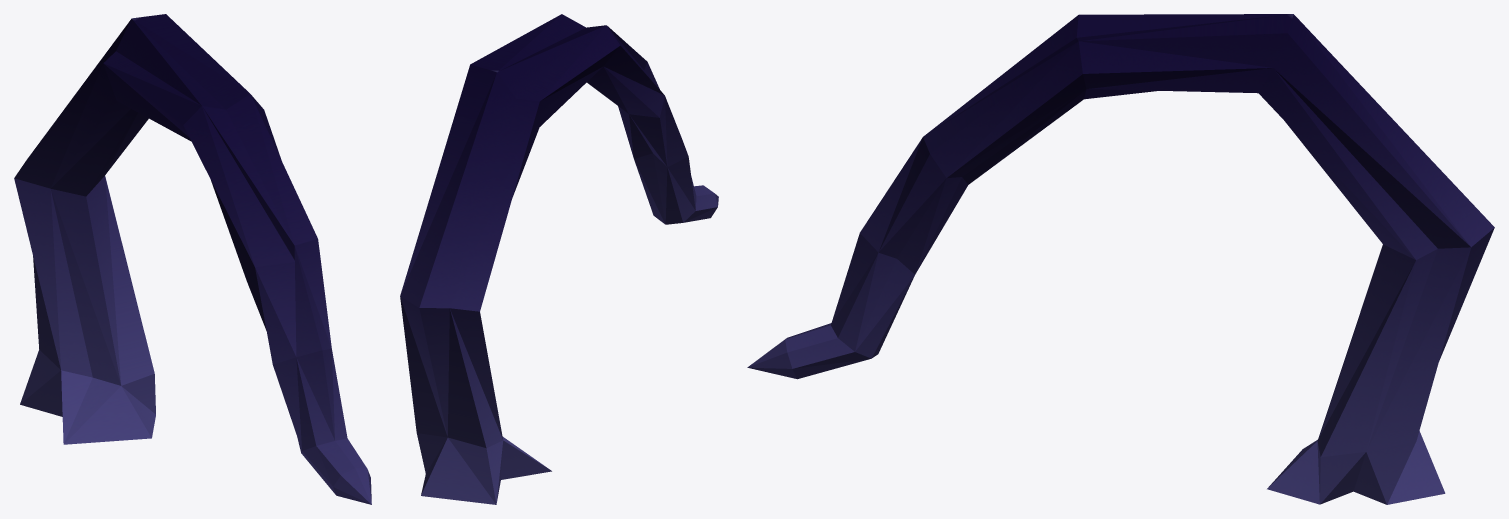
File: MOD_Waypoint (7).fbx
3 views of the same model, side by side, from view 1: azimuth 30°, elevation 25°; view 2: azimuth 150°, elevation 25°; view 3: azimuth 270°, elevation 25° (orthographic). The views are drawn at different scales.
Parts seen in each view (by area): view 1: MOD_Waypoint7; view 2: MOD_Waypoint7; view 3: MOD_Waypoint7.
Boxes of the visible parts, bbox=[...] form: MOD_Waypoint7: bbox=[14, 14, 371, 504]; MOD_Waypoint7: bbox=[400, 14, 718, 504]; MOD_Waypoint7: bbox=[747, 14, 1494, 504].
Size of the model in its own units: 1.23 by 4.67 by 6.72.
